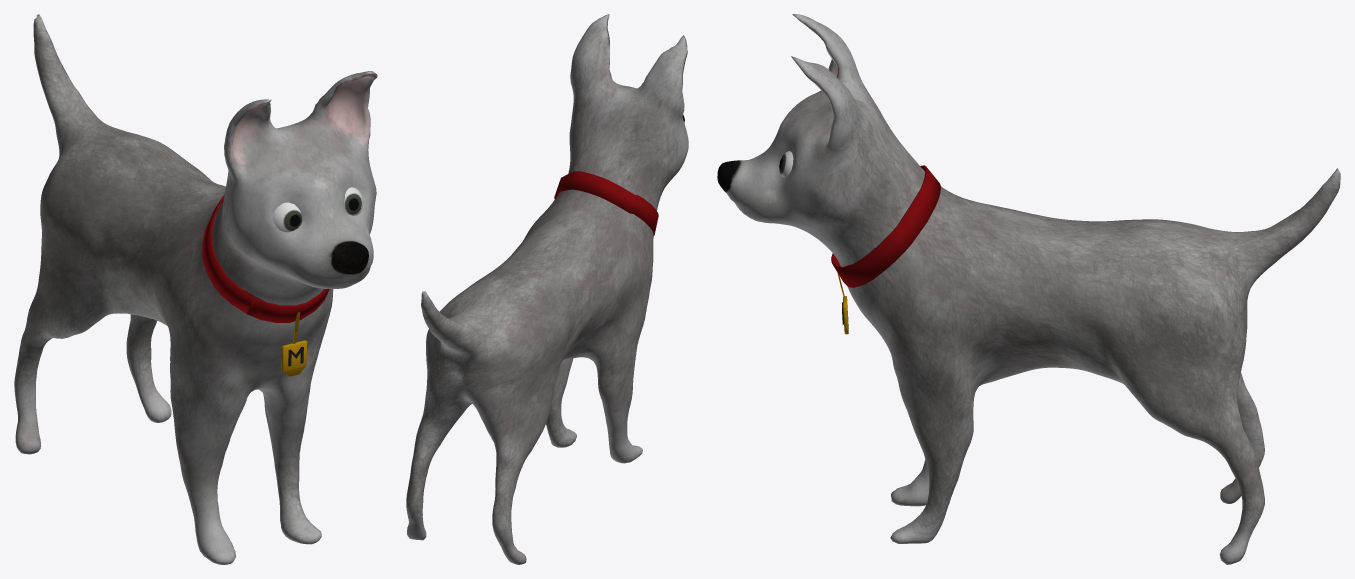
3 renders of one model, left to right at view 1: azimuth 30°, elevation 25°; view 2: azimuth 150°, elevation 25°; view 3: azimuth 270°, elevation 25°, orthographic. The views are drawn at different scales.
Visible parts, largest first — view 1: Doguinho_low_poly, collar; view 2: Doguinho_low_poly, collar; view 3: Doguinho_low_poly, collar.
Boxes of the visible parts, x1,y1,x2,y2 form: Doguinho_low_poly: (14, 14, 377, 564); collar: (202, 194, 329, 376); Doguinho_low_poly: (406, 14, 688, 564); collar: (554, 171, 658, 235); Doguinho_low_poly: (717, 14, 1340, 564); collar: (831, 165, 940, 334).
Bounding box in the file's own units: 2.8 × 9.15 × 10.41.
Materials: 4 (1 with a texture image).
